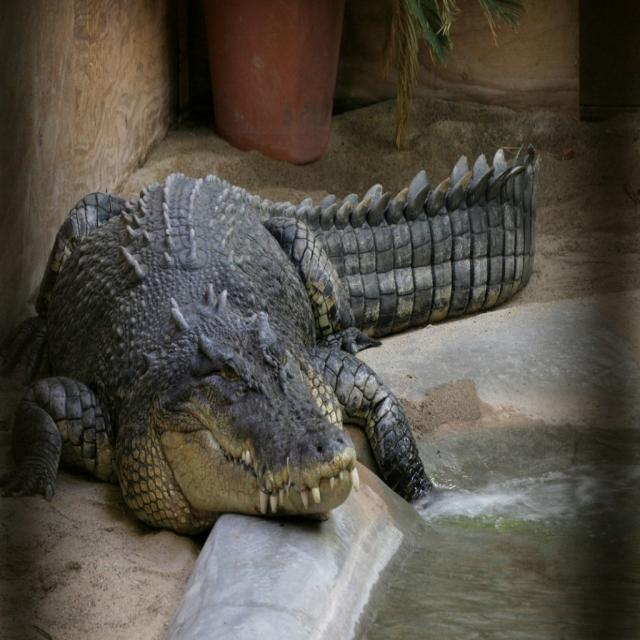crocodile: (0, 122, 585, 549)
